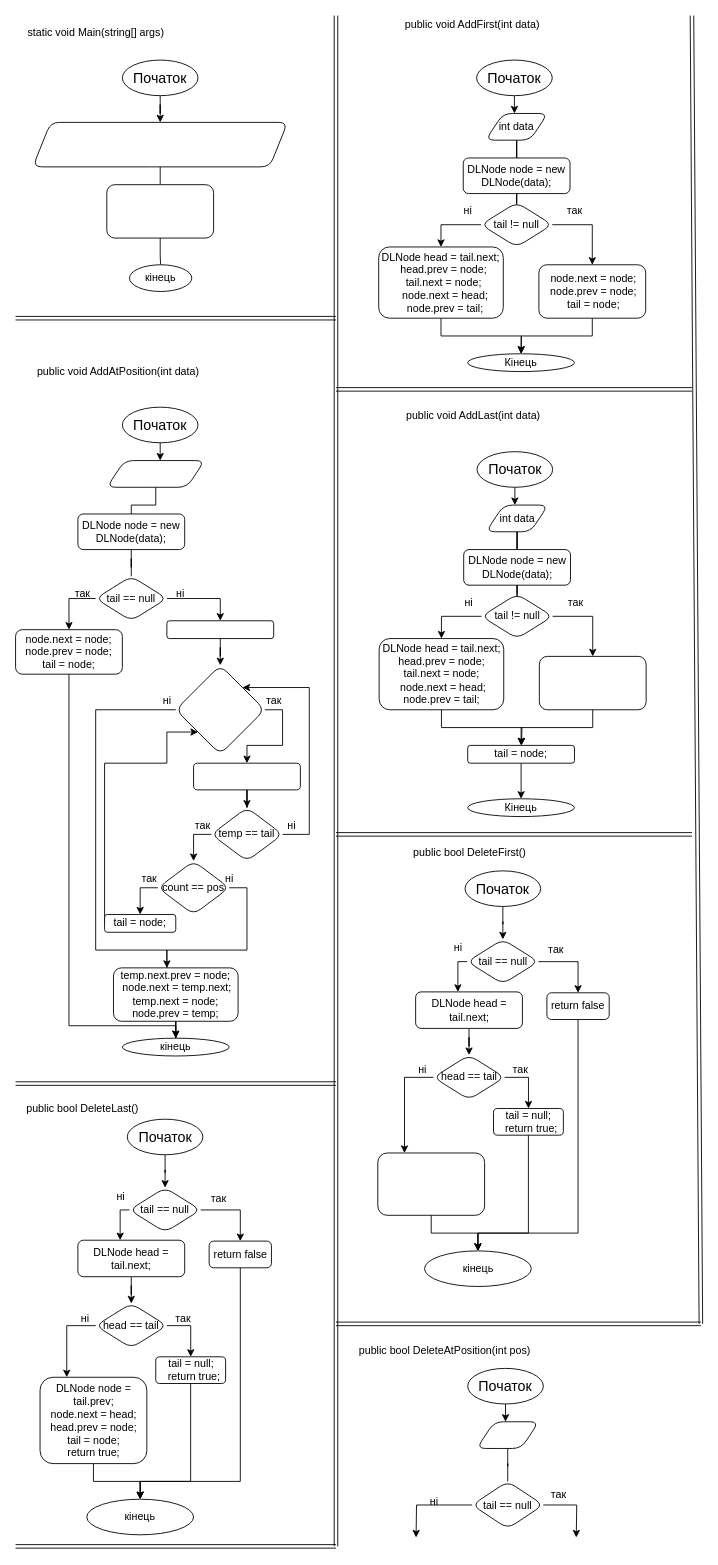
This 718x1565 diagram has some shape labels left out. The shapes that lost their labels are listed below. From the top down, each one's centre as x and y in pixels, then its label:
At [160,144]: "DoublyLinkedHeadlessLoopList list = new DoublyLinkedHeadlessLoopList();".
At [160,211]: "обробка команд з консолі".
At [155,473]: "int data, int pos".
At [220,629]: "DLNode temp = tail;".
At [592,682]: "node.next = node; node.prev = node;".
At [220,709]: "int count = 1; count <= pos; count++".
At [246,776]: "temp = temp.next;".
At [431,1183]: "DLNode node = head.next; node.prev = tail; tail.next = node; return true;".
At [507,1434]: "int pos".
